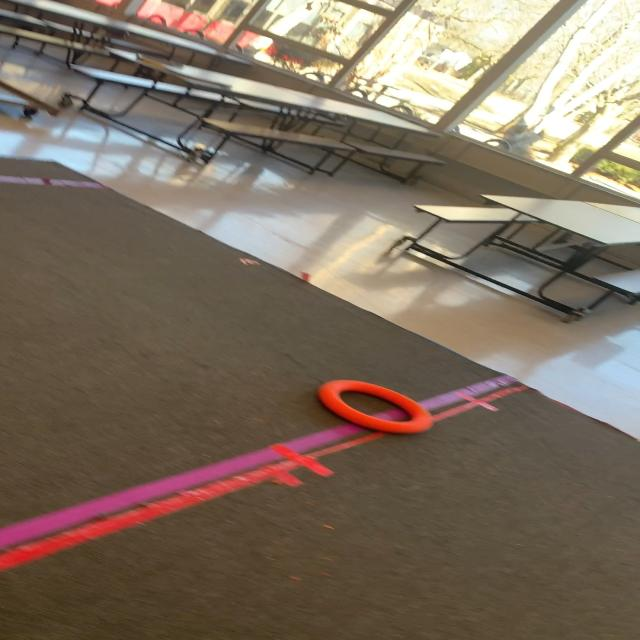notes: (317, 377, 437, 437)
